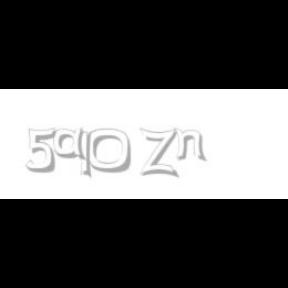5: (25, 128, 56, 174)
O: (88, 128, 132, 174)
Z: (140, 128, 177, 178)
a: (54, 128, 90, 160)
l: (80, 128, 96, 180)
n: (174, 128, 208, 162)
